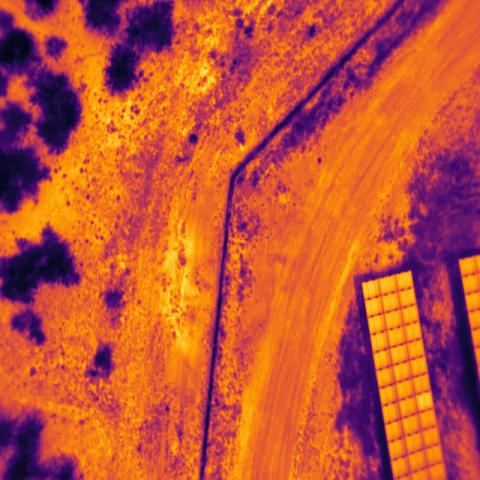fault: (416, 390, 434, 413)
